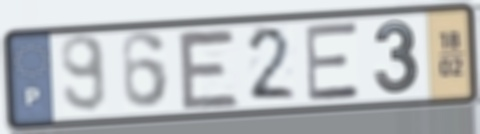2: (245, 23, 298, 108)
3: (372, 16, 422, 98)
6: (120, 28, 170, 117)
9: (59, 32, 110, 120)
E: (175, 27, 243, 112), (302, 19, 364, 104)
